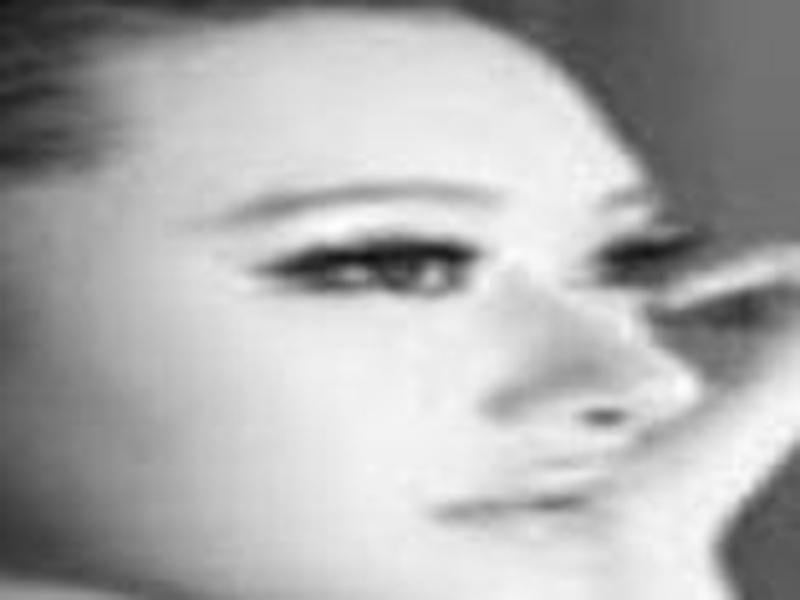without_mask: (80, 29, 706, 585)
